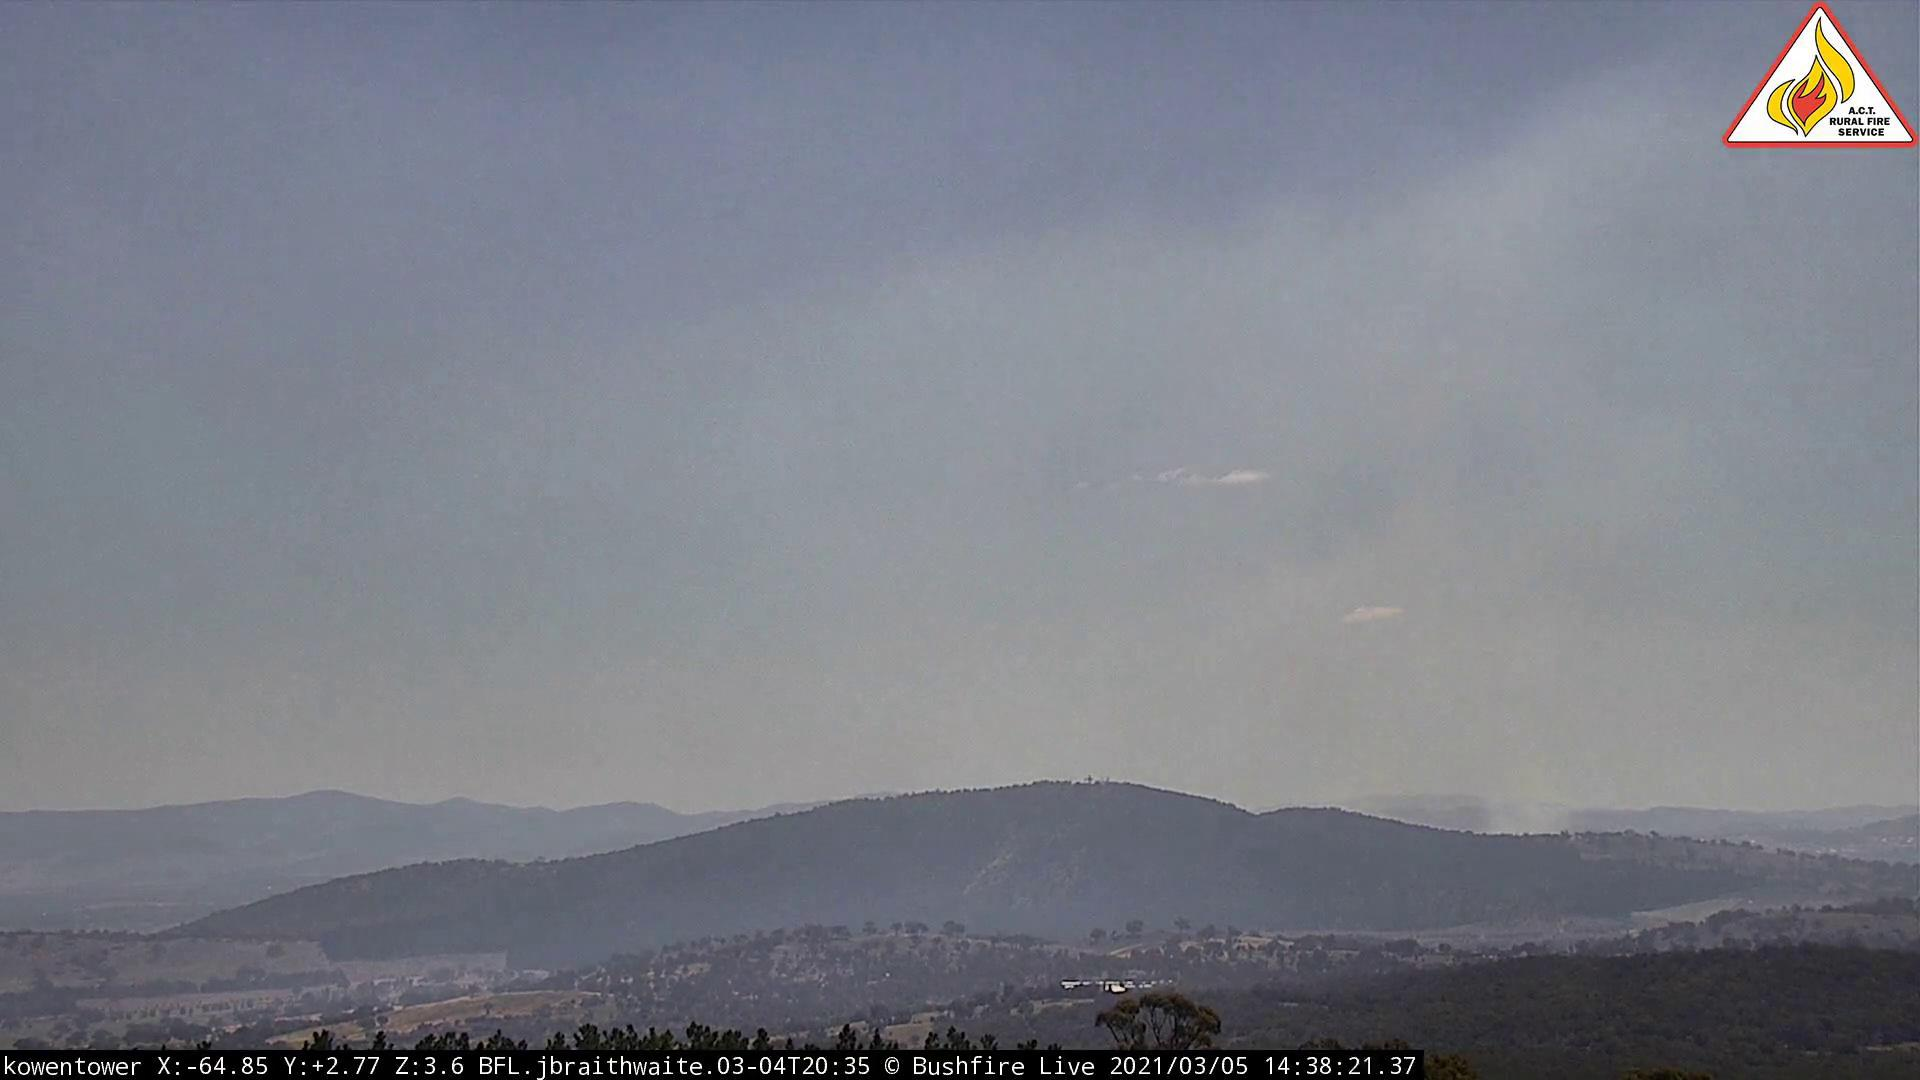Smoke: (1346, 472, 1644, 852)
